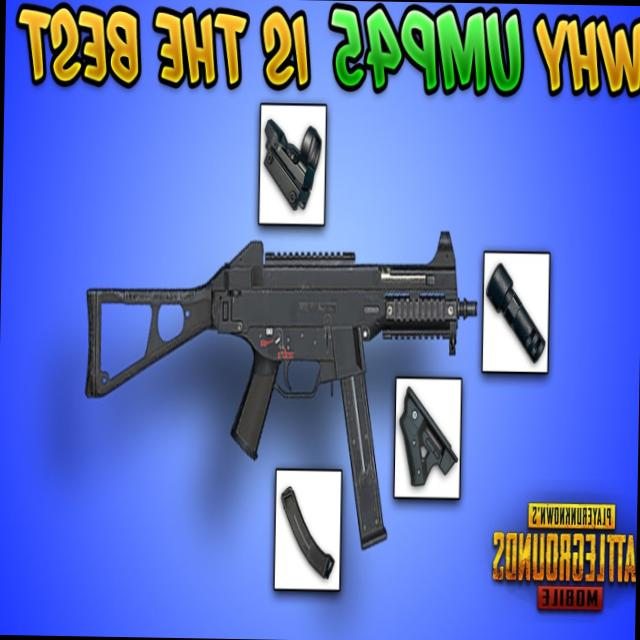Gun: (62, 198, 504, 534)
